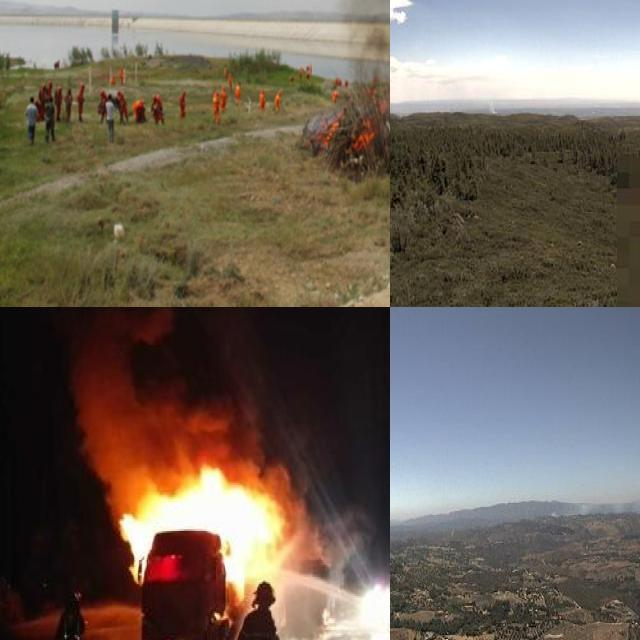fire: (125, 474, 277, 590), (356, 95, 390, 157), (322, 112, 340, 150)
smoke: (71, 316, 299, 498), (549, 491, 640, 517), (482, 88, 499, 116)
